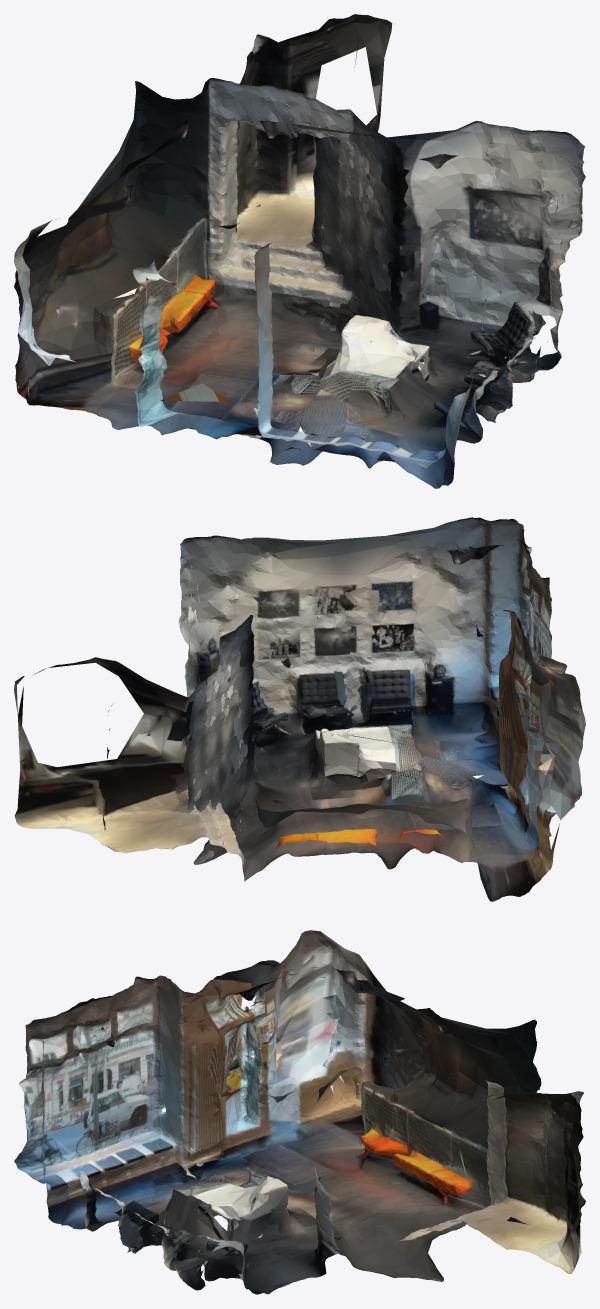
Rendered from demoarea-optimized.glb.
3 renders of one model, top to bottom at view 1: azimuth 30°, elevation 25°; view 2: azimuth 150°, elevation 25°; view 3: azimuth 270°, elevation 25°, orthographic. The views are drawn at different scales.
Visible parts, largest first — view 1: mesh; view 2: mesh; view 3: mesh.
Boxes of the visible parts, x1,y1,x2,y2 form: mesh: [14, 14, 585, 488]; mesh: [14, 517, 585, 901]; mesh: [14, 930, 585, 1294].
Bounding box in the file's own units: 9.03 × 4.13 × 10.03.
1 material, 1 textured.
